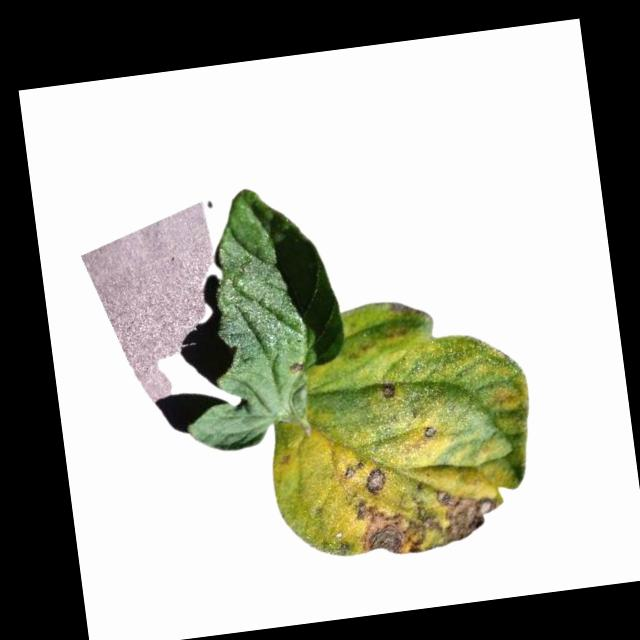Early_blight: (349, 482, 506, 562), (340, 459, 368, 481), (364, 474, 386, 499), (379, 384, 395, 401), (288, 360, 304, 375), (424, 428, 437, 442)
